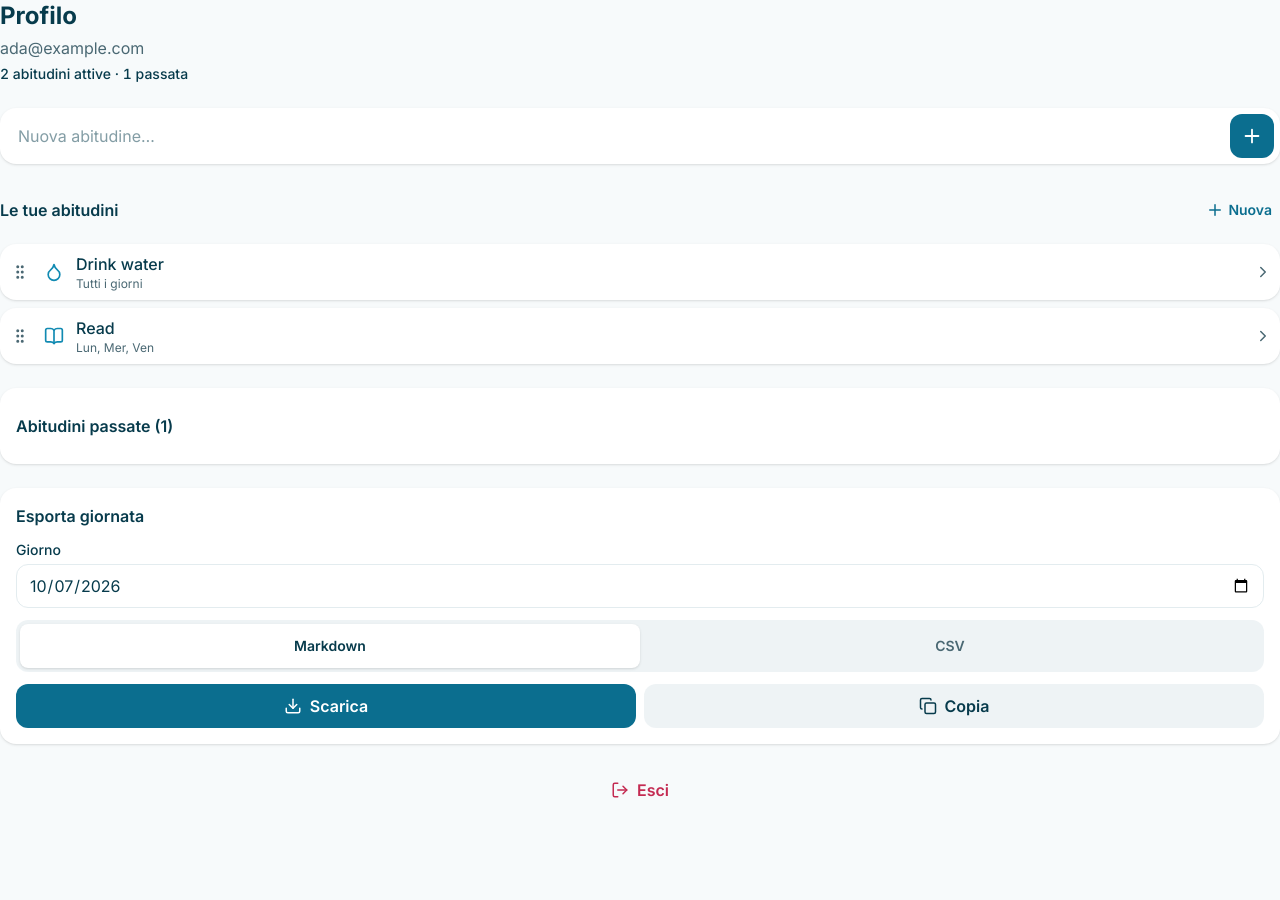
Test: ProfilePage › archivia e riattiva
Click the button with aria-label "Modifica «Read»": {"x": 95, "y": 328} [44, 308, 1272, 364]
(page scrolled)
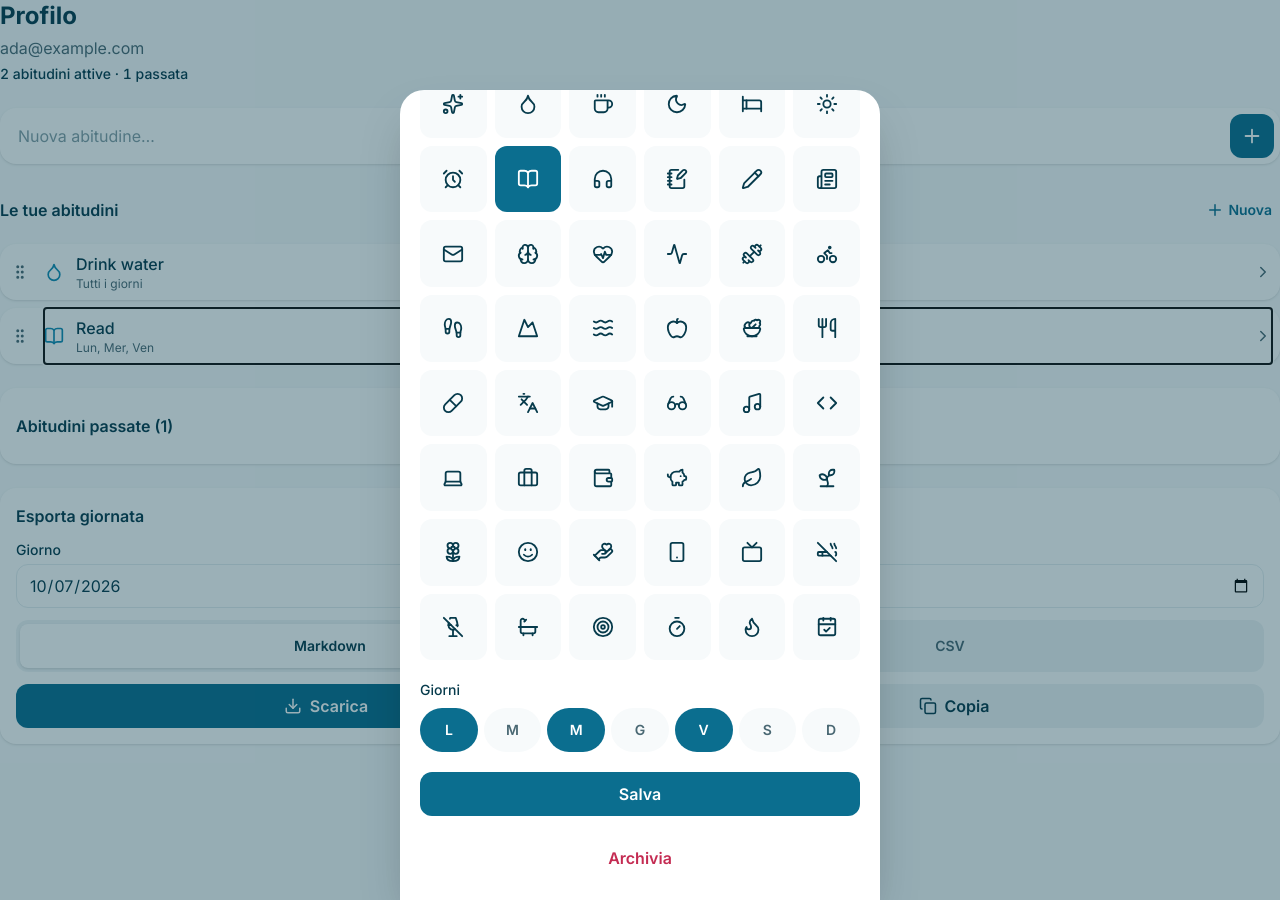
Click the button "Archivia": {"x": 640, "y": 858} [420, 836, 860, 880]
(page scrolled)
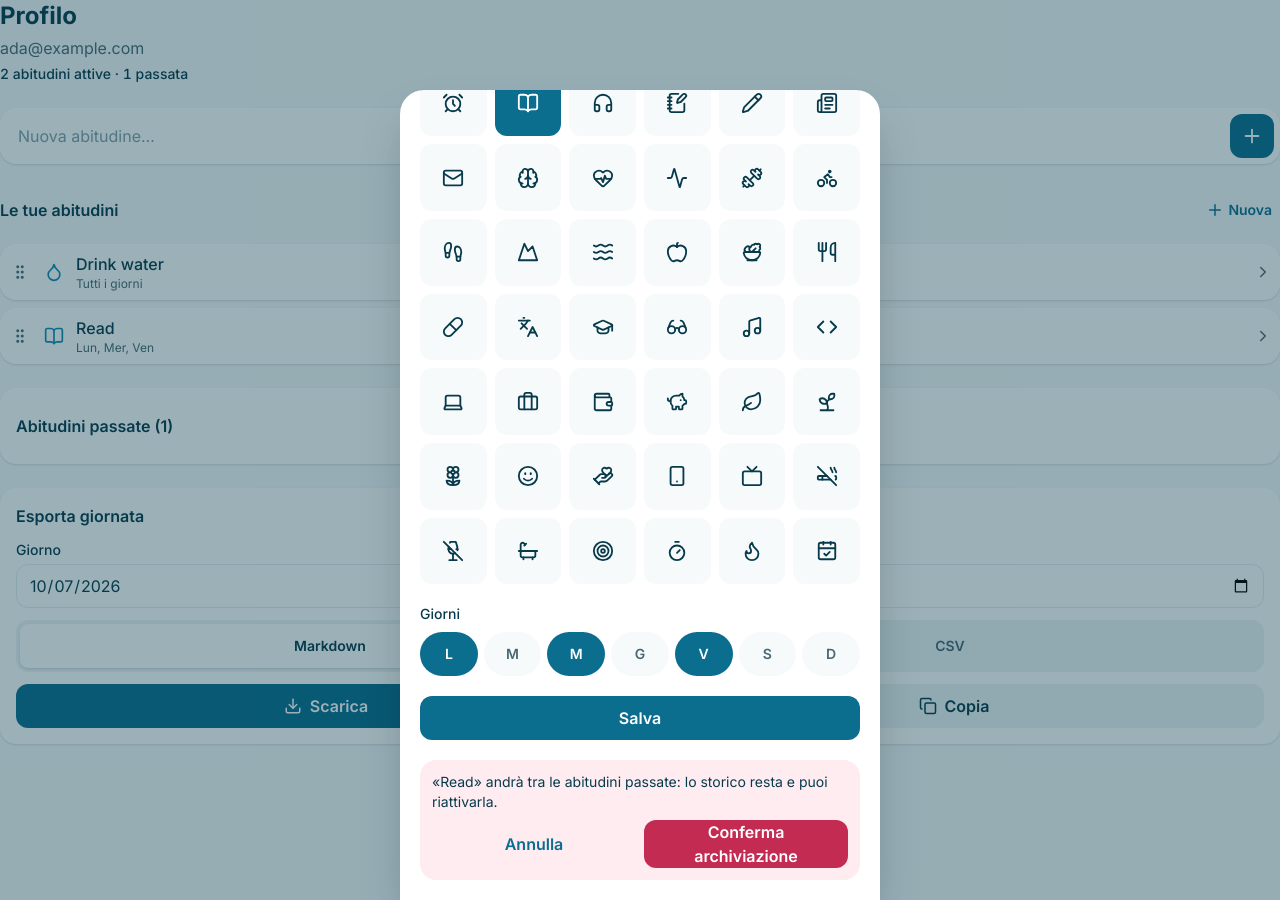
Click the button "Conferma archiviazione": {"x": 746, "y": 844} [644, 820, 848, 868]
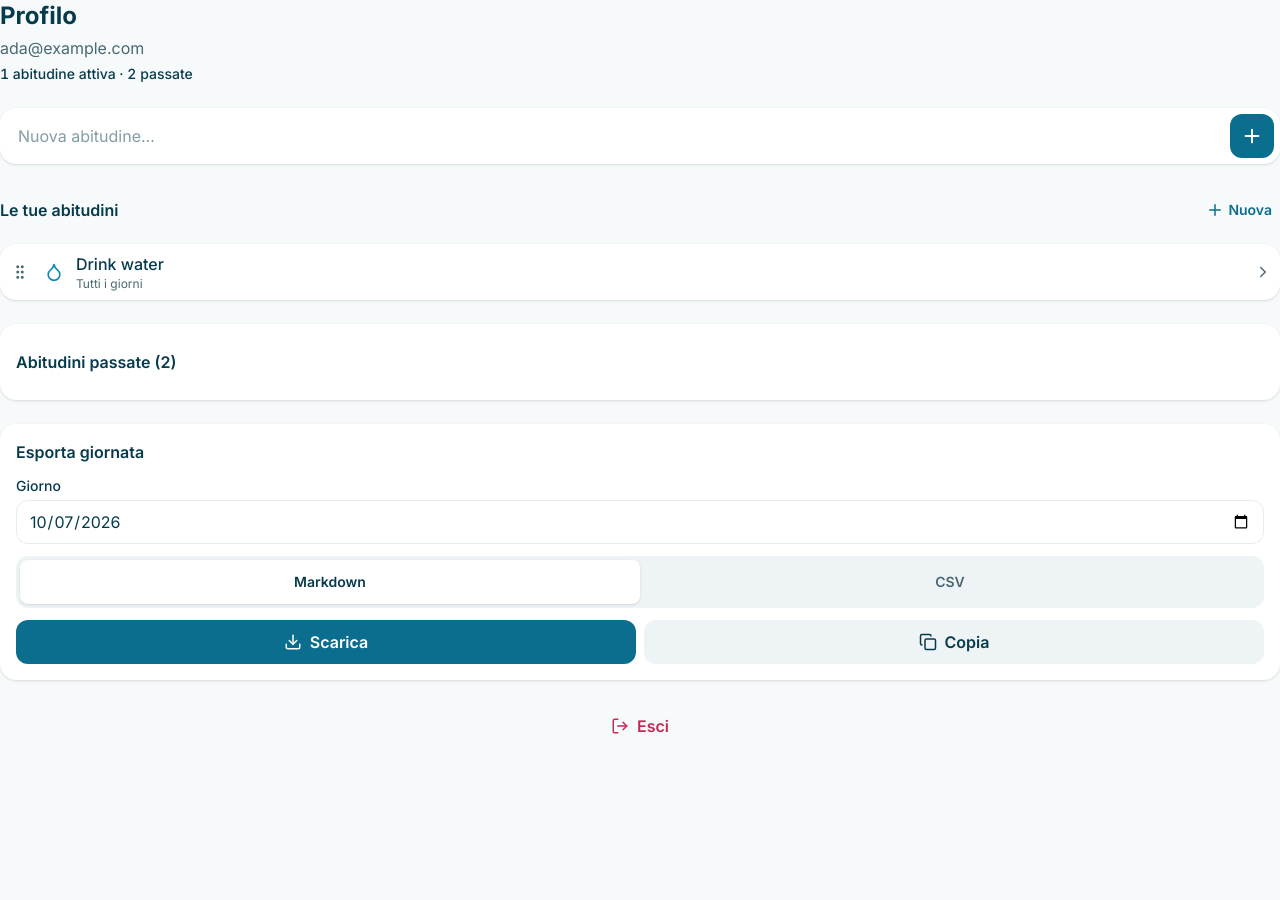
Result: the text "1 abitudine attiva · 2 passate" is shown at [0, 65, 193, 82]
Click the heading "Abitudini passate (2)": {"x": 96, "y": 362} [16, 352, 176, 372]
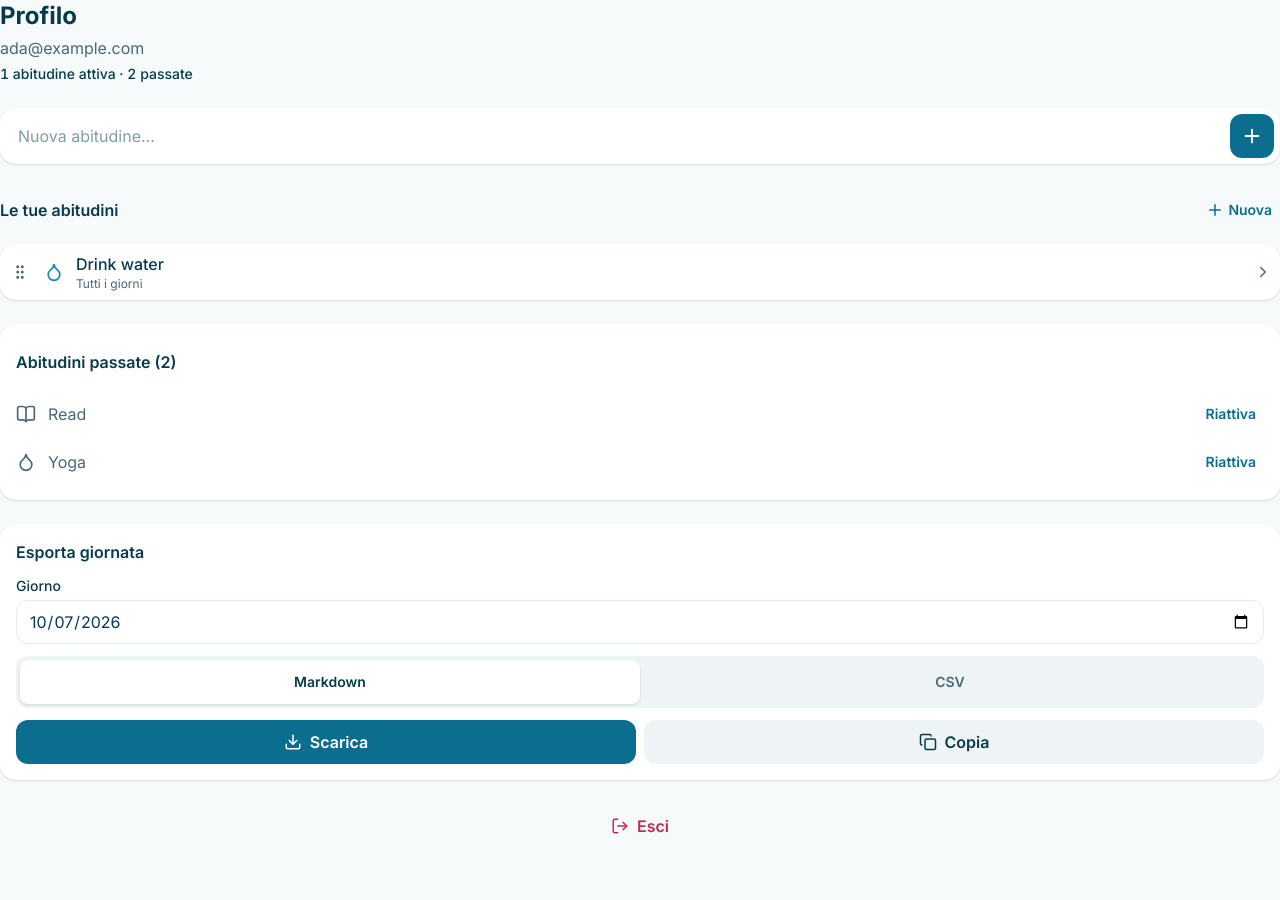
Click the button with aria-label "Riattiva «Read»": {"x": 1231, "y": 414} [1198, 392, 1264, 436]
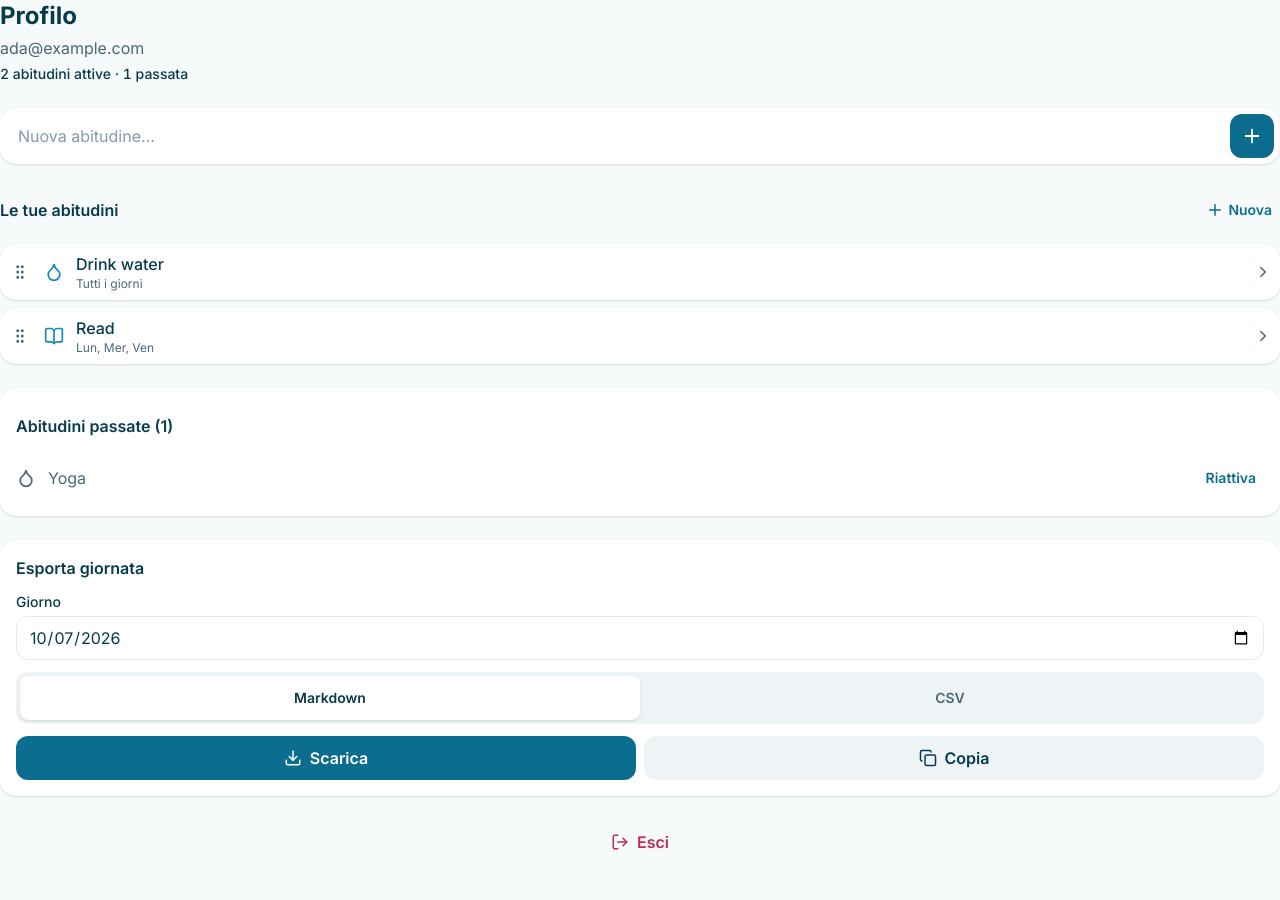
Result: the text "2 abitudini attive · 1 passata" is shown at [0, 65, 188, 82]
